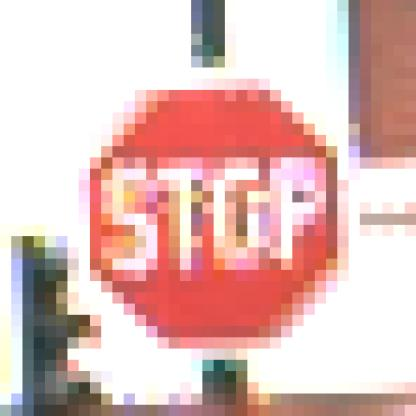Stop: (82, 82, 352, 350)
